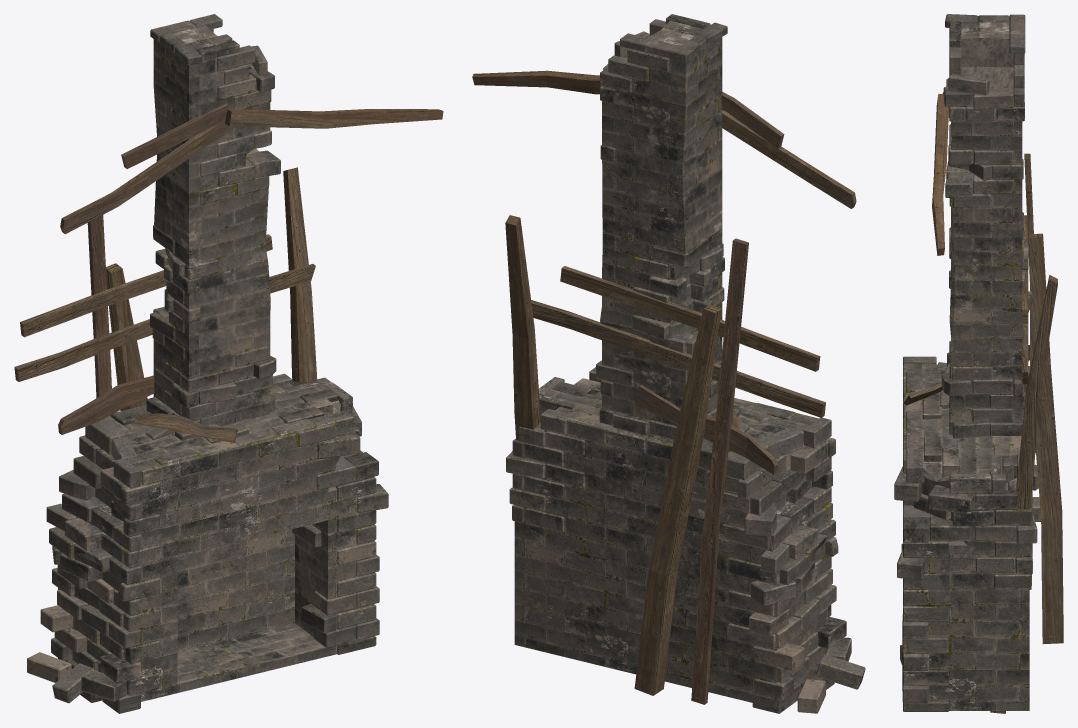
The model's file is SM_ASY_RuinsWall_Chimney_01.fbx.
3 renders of one model, left to right at view 1: azimuth 30°, elevation 25°; view 2: azimuth 150°, elevation 25°; view 3: azimuth 270°, elevation 25°, orthographic. The views are drawn at different scales.
Visible parts, largest first — view 1: SM_ASY_RuinsWall_Chimney_01.mo; view 2: SM_ASY_RuinsWall_Chimney_01.mo; view 3: SM_ASY_RuinsWall_Chimney_01.mo.
Part boxes in pixels (left/top/right/bottom): SM_ASY_RuinsWall_Chimney_01.mo: left=14, top=14, right=443, bottom=713; SM_ASY_RuinsWall_Chimney_01.mo: left=472, top=14, right=865, bottom=713; SM_ASY_RuinsWall_Chimney_01.mo: left=894, top=14, right=1063, bottom=713.
Size of the model in its own units: 258 by 396 by 97.75.
